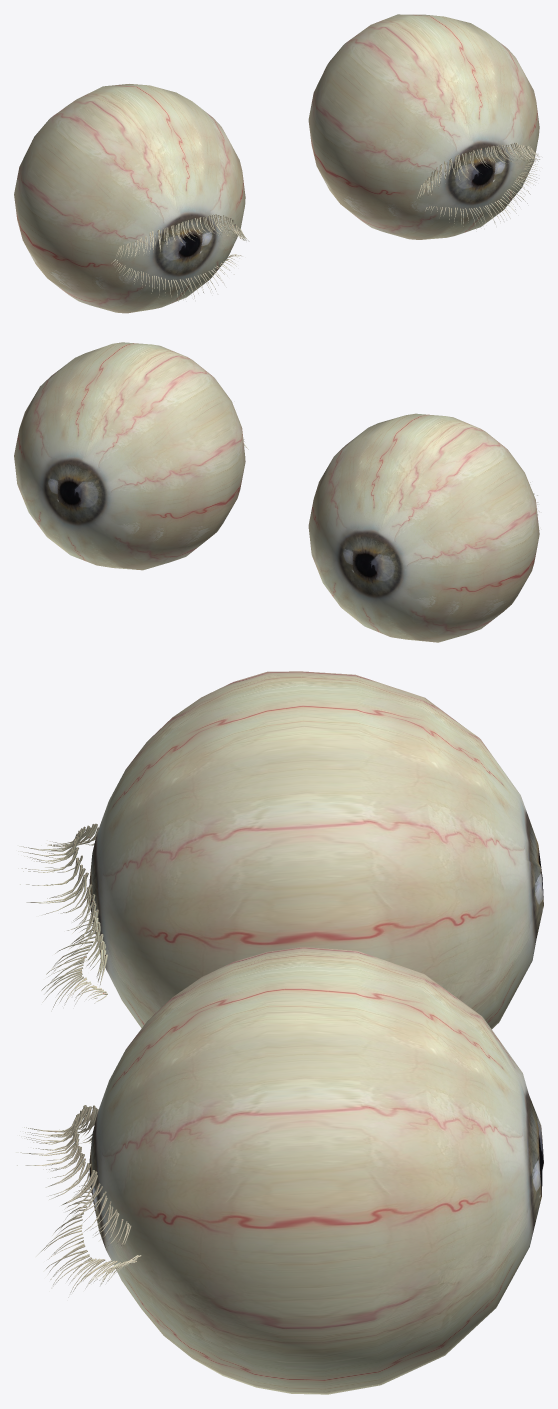
File: female_kid_eyes.gltf
3 views of the same model, one above another, from view 1: azimuth 30°, elevation 25°; view 2: azimuth 150°, elevation 25°; view 3: azimuth 270°, elevation 25° (orthographic). The views are drawn at different scales.
Visible parts, largest first — view 1: female_kid_eyes; view 2: female_kid_eyes; view 3: female_kid_eyes.
Part boxes in pixels (x1,y1,x2,y2): female_kid_eyes: [14, 14, 539, 313]; female_kid_eyes: [14, 342, 539, 642]; female_kid_eyes: [16, 671, 543, 1394].
Size of the model in its own units: 10.1 by 4.04 by 4.78.
Materials: 1 (1 with a texture image).
